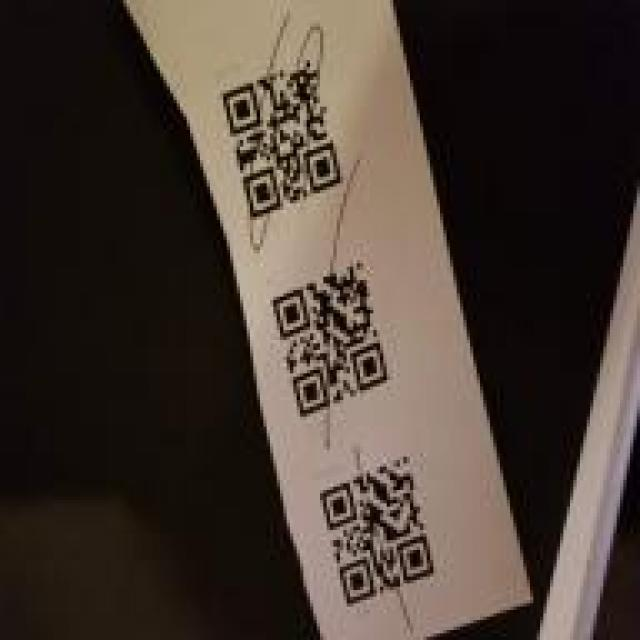qr_code: (316, 444, 444, 614), (222, 60, 341, 219), (271, 264, 389, 417)
